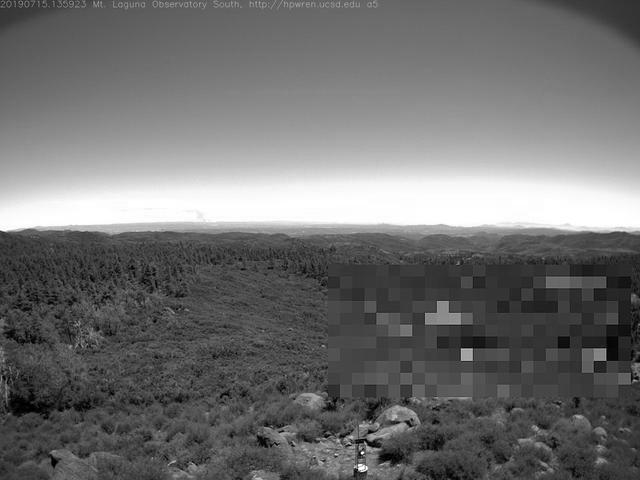smoke: (184, 205, 213, 225)
